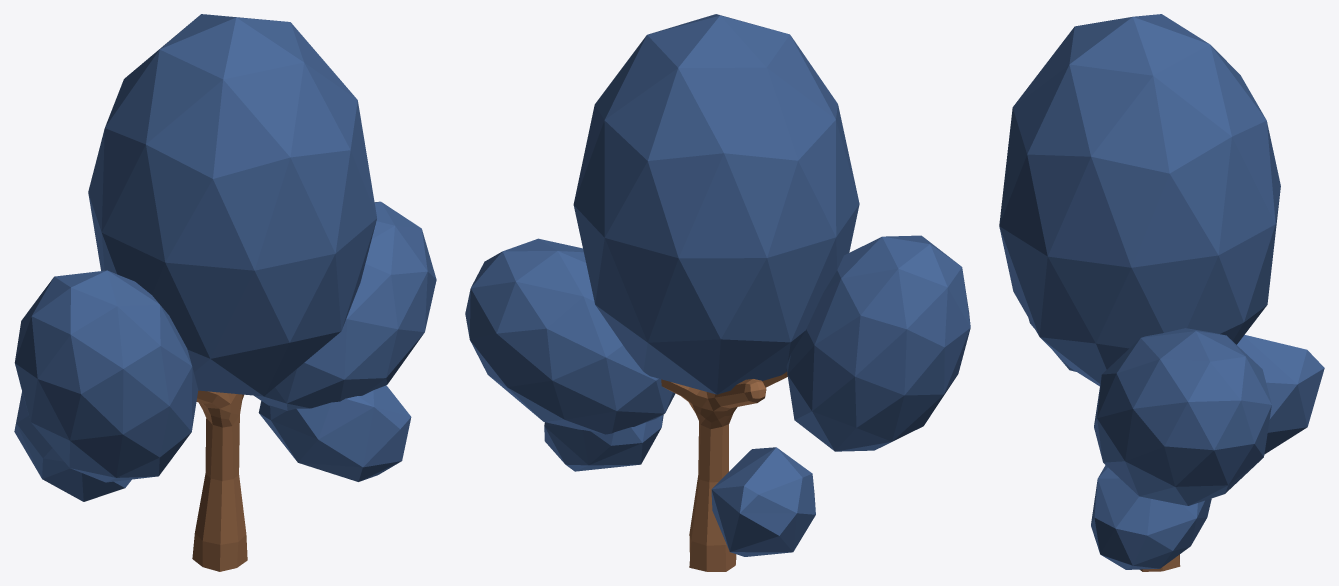
File: tree-winter-complete-10-002.glb
3 views of the same model, side by side, from view 1: azimuth 30°, elevation 25°; view 2: azimuth 150°, elevation 25°; view 3: azimuth 270°, elevation 25° (orthographic). The views are drawn at different scales.
Visible parts, largest first — view 1: TREE 10.005_185, TREE 10.004_186; view 2: TREE 10.005_185, TREE 10.004_186; view 3: TREE 10.005_185.
Part boxes in pixels (box(x1,y1,x2,y2)): TREE 10.005_185: box(14, 14, 436, 501); TREE 10.004_186: box(192, 390, 247, 571); TREE 10.005_185: box(465, 14, 970, 556); TREE 10.004_186: box(661, 371, 787, 571); TREE 10.005_185: box(999, 14, 1324, 569).
Size of the model in its own units: 1.19 by 1.4 by 0.7525.
